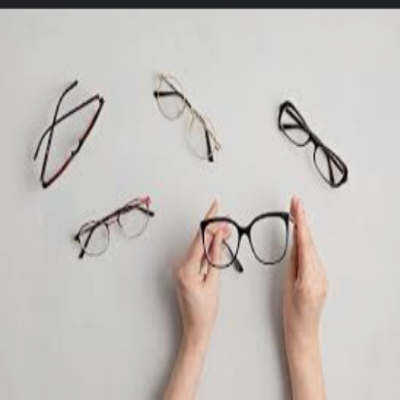glasses: (29, 79, 114, 191), (149, 62, 227, 167), (273, 96, 352, 191), (197, 210, 295, 276), (70, 196, 159, 258)
